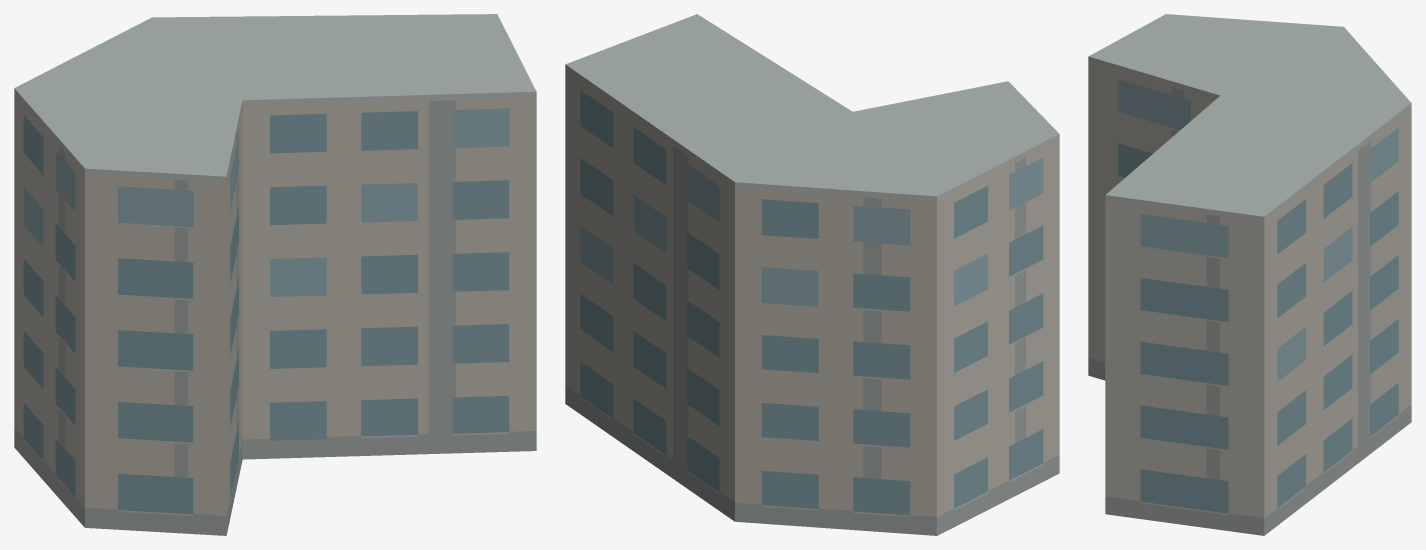
File: survey-upis-32474598.glb
The picture shows the model from 3 angles, left to right: view 1: azimuth 30°, elevation 25°; view 2: azimuth 150°, elevation 25°; view 3: azimuth 270°, elevation 25°; orthographic projection. The views are drawn at different scales.
Parts seen in each view (by area): view 1: survey-upis-32474598.tmp; view 2: survey-upis-32474598.tmp; view 3: survey-upis-32474598.tmp.
Part boxes in pixels (x1=…): survey-upis-32474598.tmp: x1=14, y1=14, x2=536, y2=535; survey-upis-32474598.tmp: x1=565, y1=14, x2=1059, y2=535; survey-upis-32474598.tmp: x1=1088, y1=14, x2=1411, y2=535.
Bounding box in the file's own units: 18.82 × 13.81 × 12.68.
